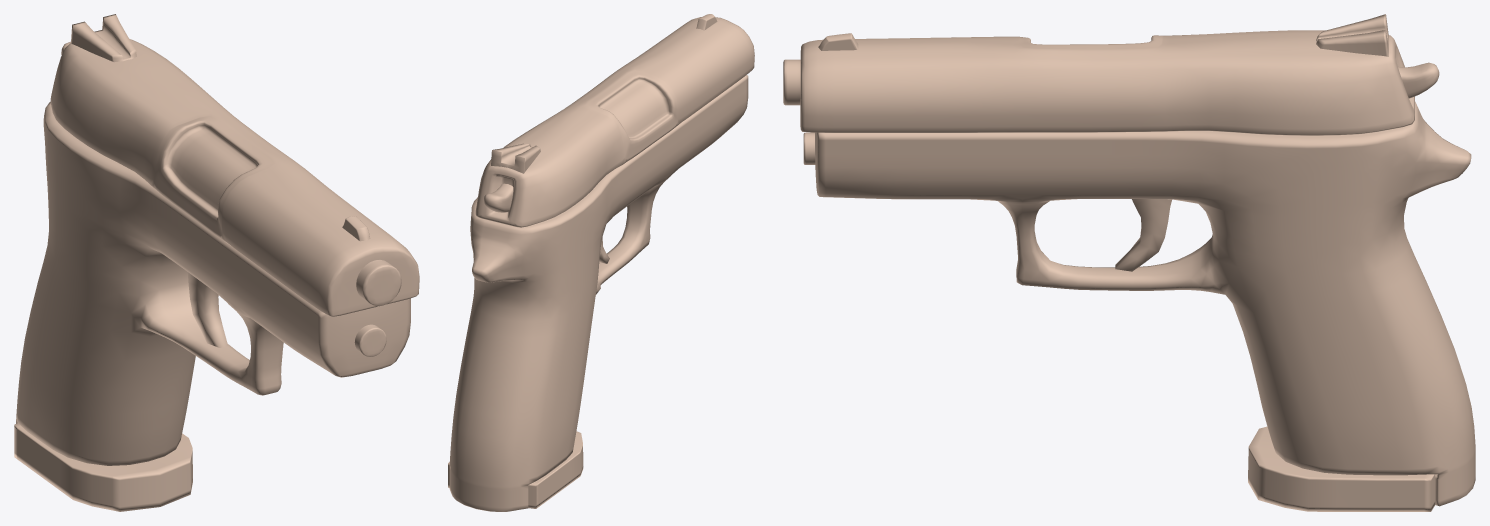
File: aGun.fbx
The picture shows the model from 3 angles, left to right: view 1: azimuth 30°, elevation 25°; view 2: azimuth 150°, elevation 25°; view 3: azimuth 270°, elevation 25°; orthographic projection. The views are drawn at different scales.
Parts seen in each view (by area): view 1: Semi_autoHandgun:SemiAutoPistol; view 2: Semi_autoHandgun:SemiAutoPistol; view 3: Semi_autoHandgun:SemiAutoPistol.
Part boxes in pixels (left/top/right/bottom): Semi_autoHandgun:SemiAutoPistol: left=14, top=14, right=419, bottom=511; Semi_autoHandgun:SemiAutoPistol: left=448, top=14, right=754, bottom=511; Semi_autoHandgun:SemiAutoPistol: left=783, top=14, right=1475, bottom=511.
Bounding box in the file's own units: 6.22 × 21.29 × 29.21.
